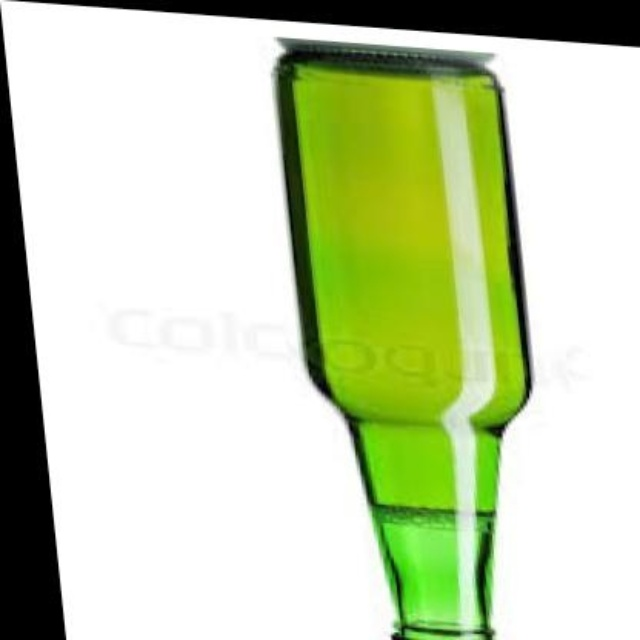trash: (278, 46, 529, 638)
